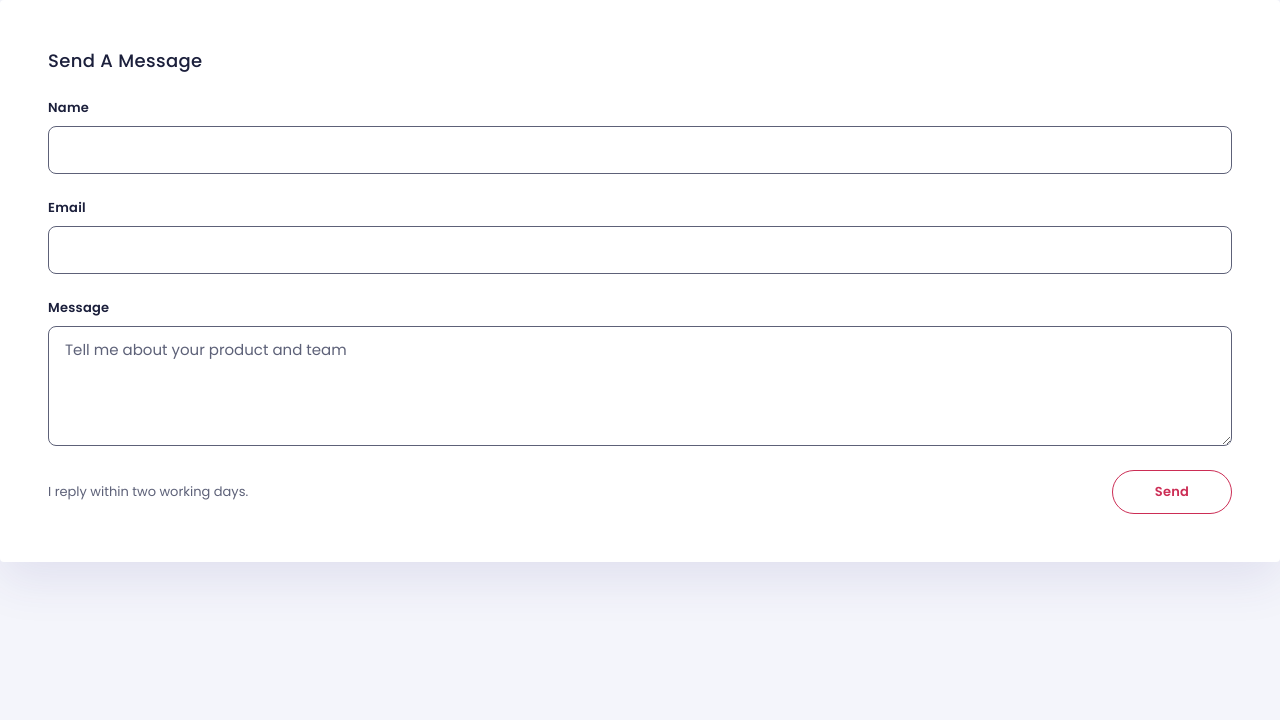
Test: ContactCard validation › submits valid input through submitContact and confirms
The width and height of the screenshot is (1280, 720).
In the field labelled "Name": (640, 150) [48,126,1232,174], type "Asha Menon"
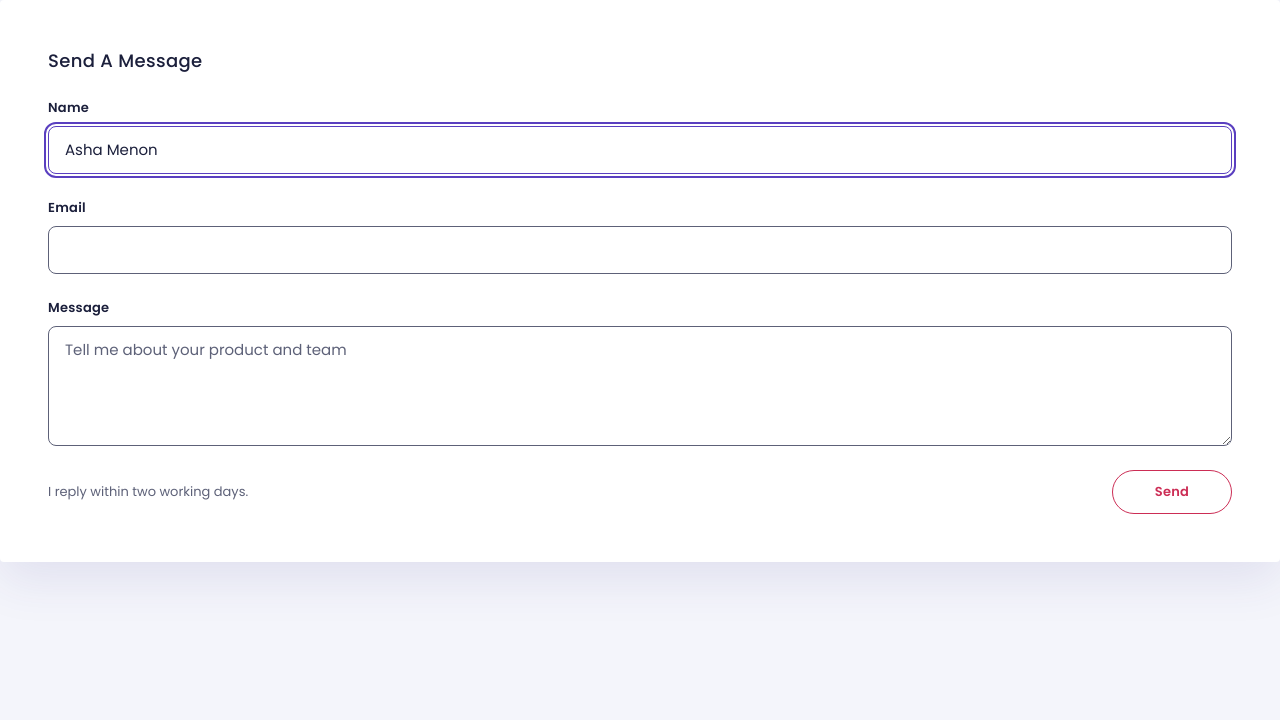
In the field labelled "Email": (640, 250) [48,226,1232,274], type "asha@company.com"
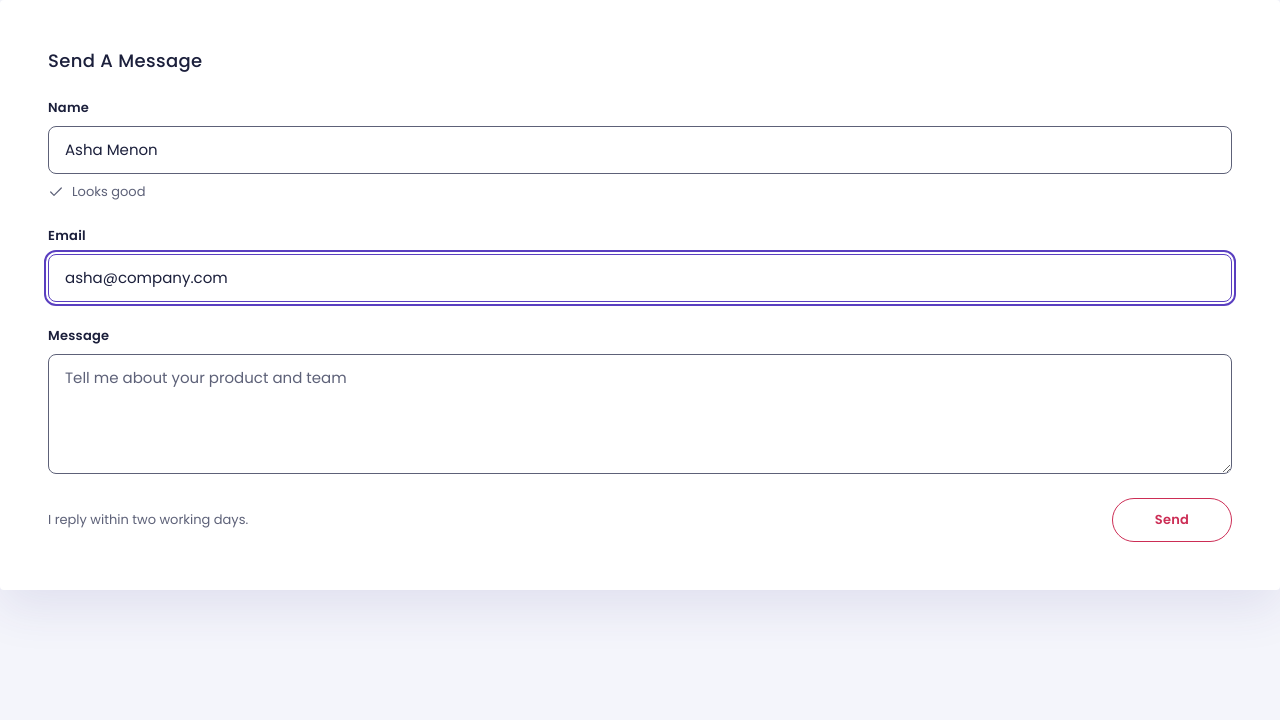
In the text box labelled "Message": (640, 414) [48,354,1232,474], type "We need a design system for our product."
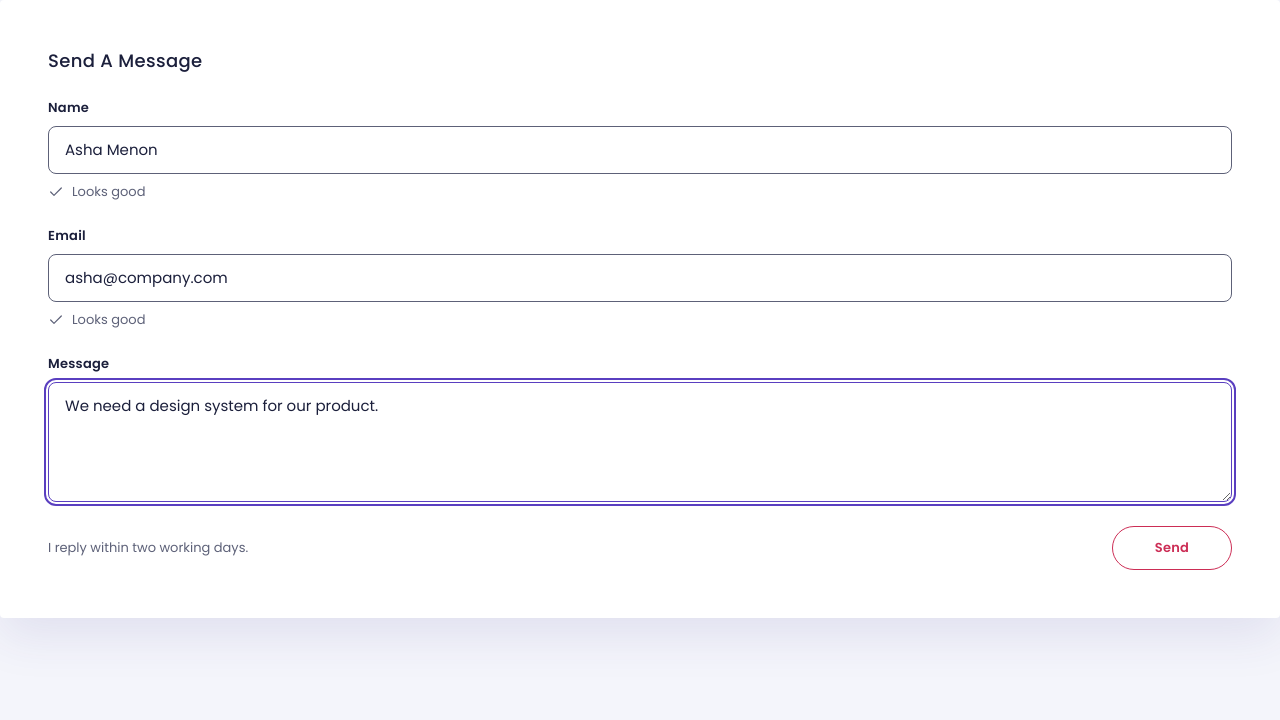
Click the button "Send": (1172, 548) [1112,526,1232,570]
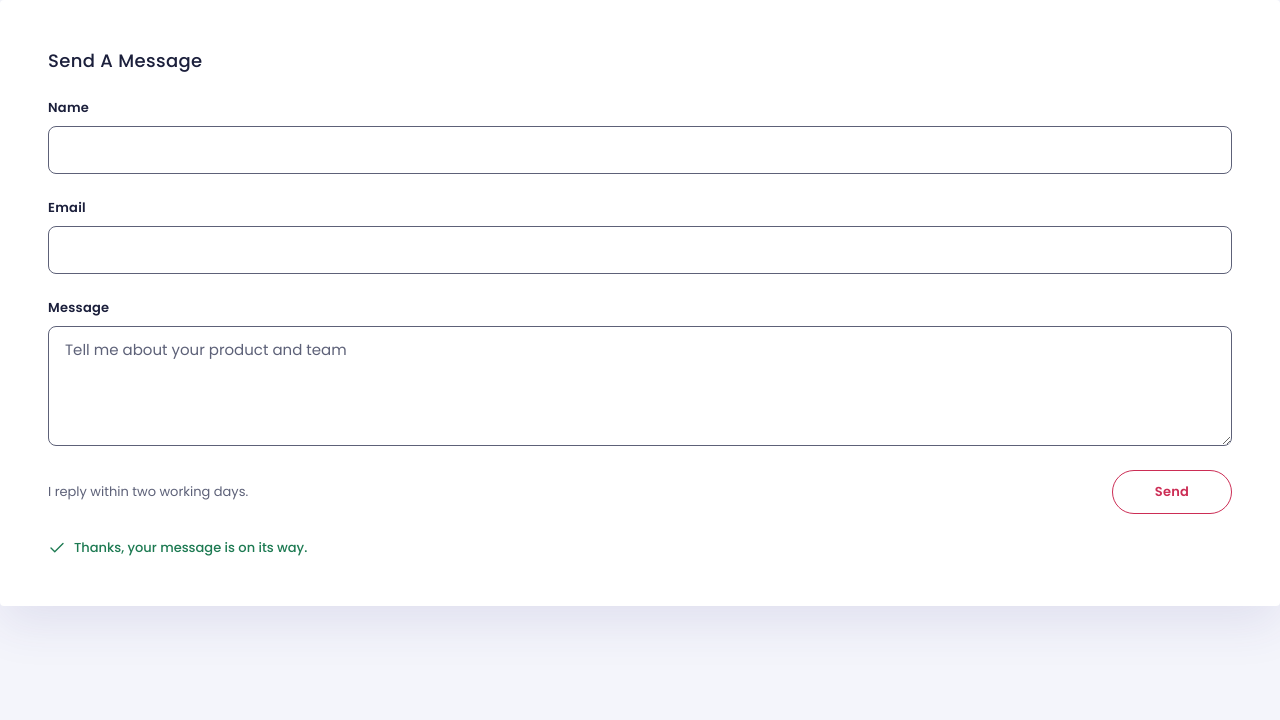
Check: the message reads "Thanks, your message is on its way.", box [74,538,307,557]
